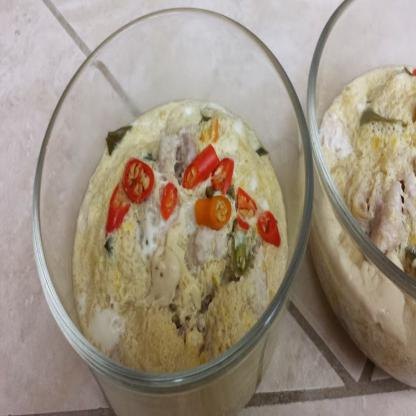Kaithoon: (67, 87, 292, 398), (318, 59, 416, 387)
